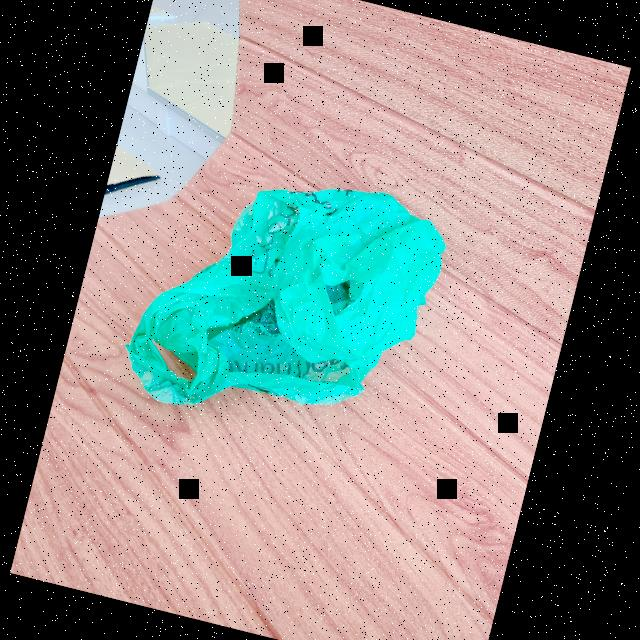plastic_bag: (108, 134, 458, 463)
